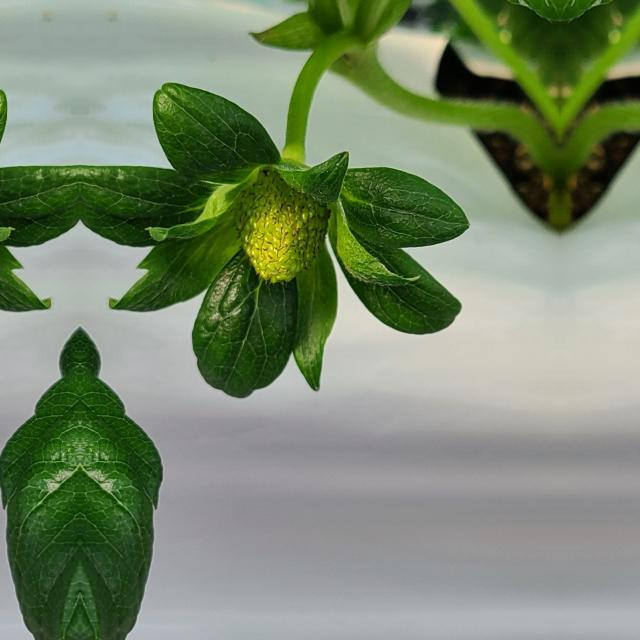Health_25: (234, 170, 328, 282)
